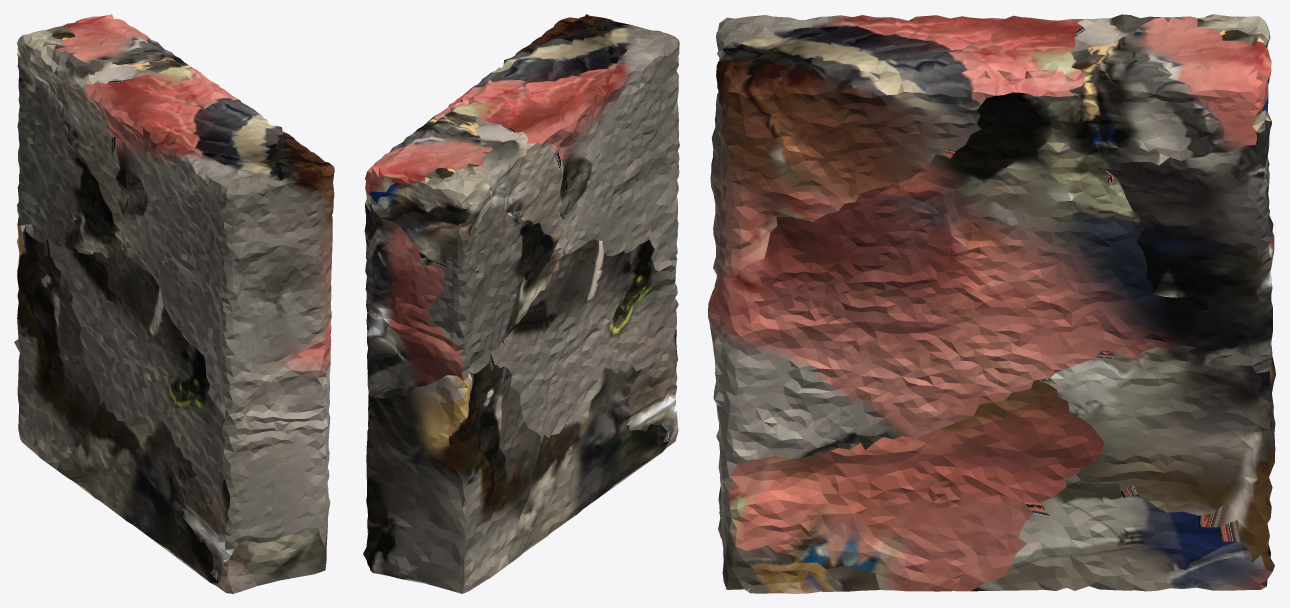
Rendered from Cranium.fbx.
3 views of the same model, side by side, from view 1: azimuth 30°, elevation 25°; view 2: azimuth 150°, elevation 25°; view 3: azimuth 270°, elevation 25° (orthographic). The views are drawn at different scales.
Visible parts, largest first — view 1: textured_output; view 2: textured_output; view 3: textured_output.
Part boxes in pixels (x1=…): textured_output: x1=14, y1=14, x2=334, y2=593; textured_output: x1=363, y1=14, x2=679, y2=593; textured_output: x1=708, y1=14, x2=1275, y2=593.
Size of the model in its own units: 8.44 by 27.62 by 27.21.
